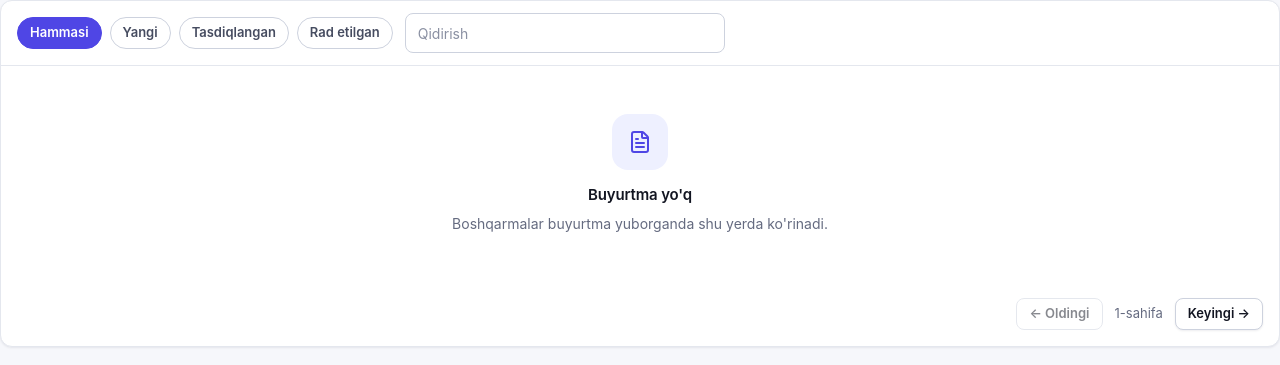
it: OrdersPage › keyingi sahifadagi buyurtmani ko'rsatadi
The image size is (1280, 365).
Click the button "Keyingi →" at (1219, 314), box 1175,298 -> 1263,330
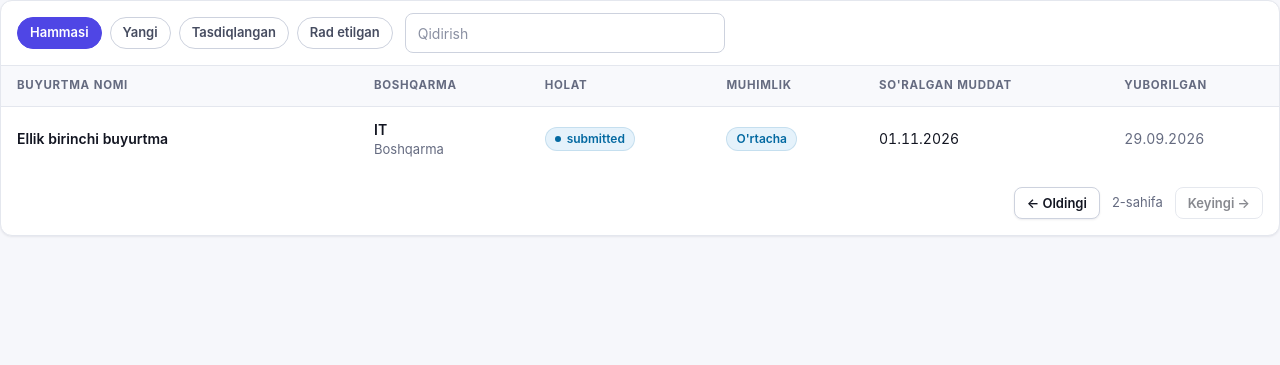
Now the text "Ellik birinchi buyurtma" is shown, box 17,130 -> 168,147
